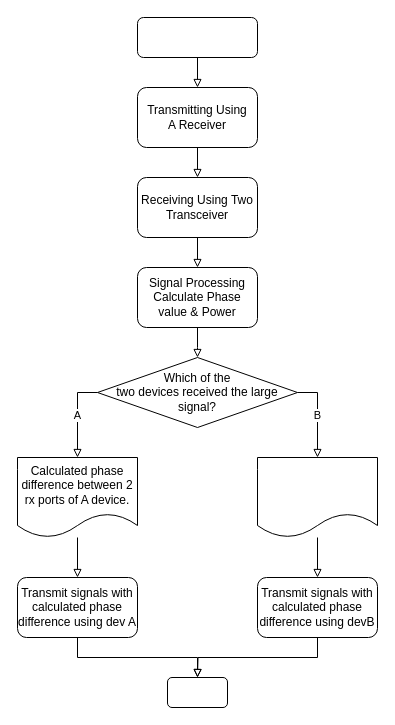
Image size: 395x725. Some labels were removed from this diagram. The shapes that lost their labels are listed below. From the top down, each one's centre as x and y in pixels, then its label:
At (197,37): "Start".
At (317,497): "Calculated phase difference between 2 rx ports of B device.".
At (197,692): "END".
